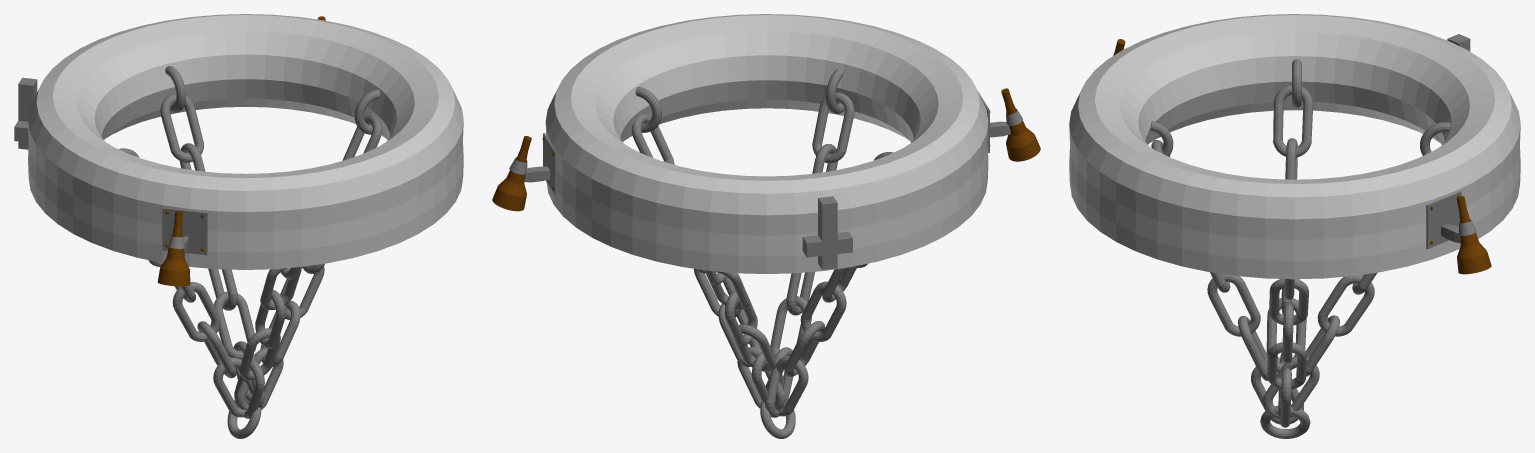
Rendered from kroonluchter.fbx.
3 views of the same model, side by side, from view 1: azimuth 30°, elevation 25°; view 2: azimuth 150°, elevation 25°; view 3: azimuth 270°, elevation 25° (orthographic). The views are drawn at different scales.
Visible parts, largest first — view 1: Torus.050; view 2: Torus.050; view 3: Torus.050.
Boxes of the visible parts, <box> form: Torus.050: <box>14,14,463,438</box>; Torus.050: <box>492,14,1040,438</box>; Torus.050: <box>1069,14,1520,438</box>.
Bounding box in the file's own units: 2.26 × 1.91 × 2.26.
